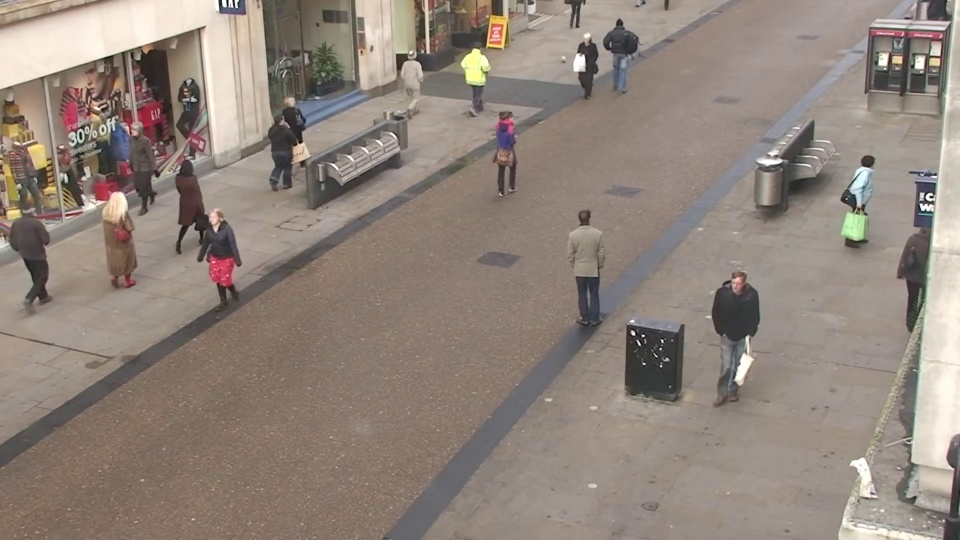pedestrian: (709, 276, 757, 414), (18, 189, 73, 302), (190, 210, 237, 328), (106, 183, 155, 294), (564, 203, 602, 323), (843, 149, 886, 255), (178, 150, 219, 253), (112, 121, 154, 215), (270, 106, 304, 197), (495, 104, 526, 197), (281, 88, 314, 175), (403, 43, 430, 118), (468, 34, 494, 107), (572, 33, 596, 106), (608, 15, 631, 83)
